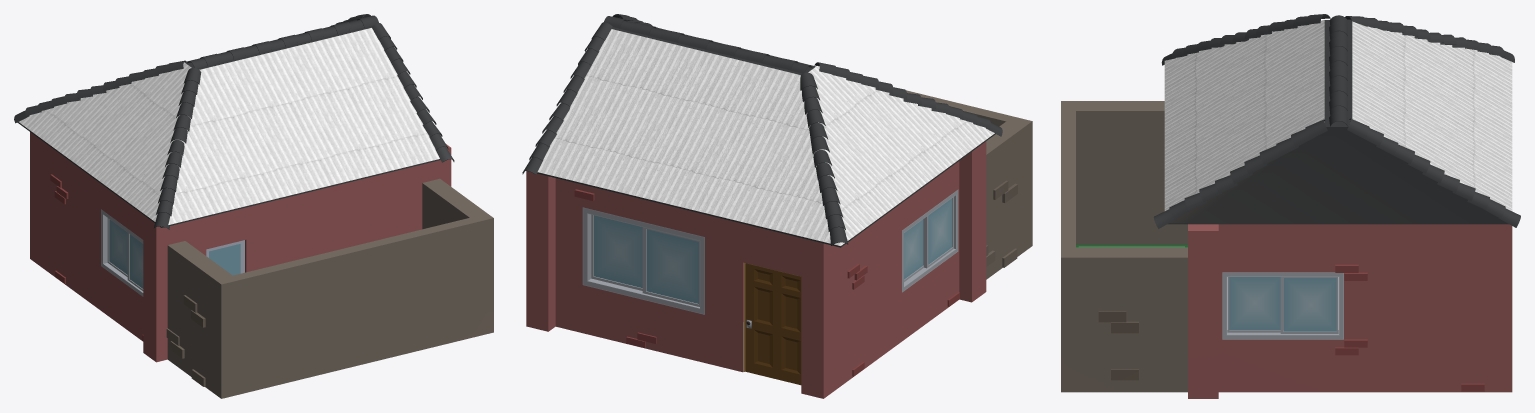
The model's file is Casa1-Roja.FBX.
3 renders of one model, left to right at view 1: azimuth 30°, elevation 25°; view 2: azimuth 150°, elevation 25°; view 3: azimuth 270°, elevation 25°, orthographic. The views are drawn at different scales.
Visible parts, largest first — view 1: Casa, Techo, Ventana, Door-2; view 2: Techo, Casa, Ventana, Puerta; view 3: Casa, Techo, Ventana.
Boxes of the visible parts, x1,y1,x2,y2 form: Casa: (30,132,493,398); Techo: (14,14,454,229); Ventana: (101,209,143,296); Door-2: (206,240,244,275); Techo: (522,14,1002,247); Casa: (526,90,1032,398); Ventana: (582,189,958,314); Puerta: (745,263,801,385); Casa: (1061,101,1512,398); Techo: (1153,14,1520,228); Ventana: (1222,272,1343,339).
Size of the model in its own units: 668 by 744 by 485.
